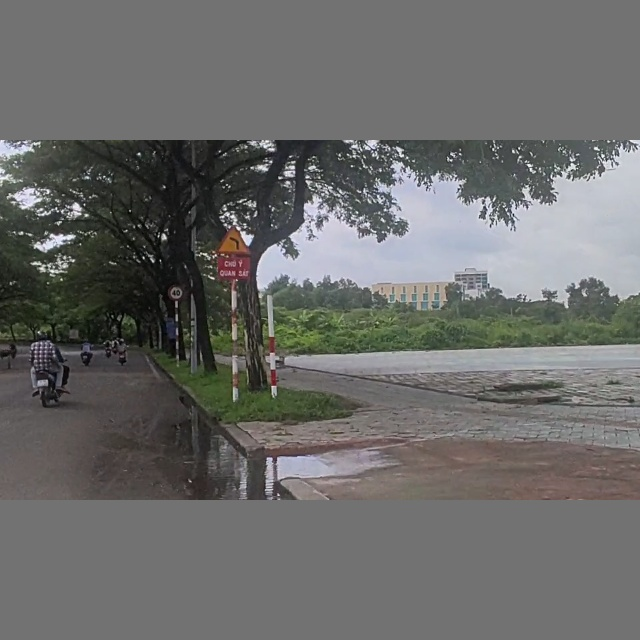P.127*40: (167, 283, 186, 300)
W.201a: (214, 223, 256, 255)
